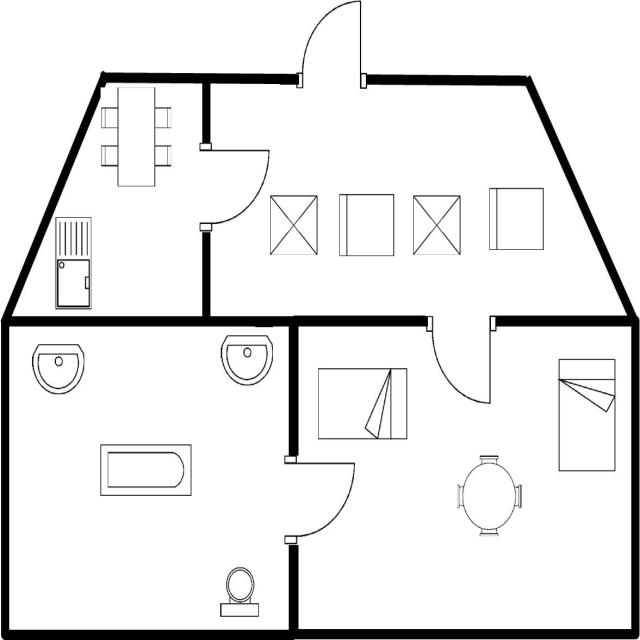bed: (312, 360, 412, 446), (553, 352, 620, 480)
coffee_table: (266, 190, 322, 259), (408, 190, 464, 258)
dining_table: (97, 83, 175, 193)
large_sink: (215, 561, 263, 622)
round_table: (451, 447, 526, 540)
sink: (52, 211, 94, 313)
small_sink: (215, 330, 278, 392), (28, 338, 87, 398)
small_sofa: (482, 181, 548, 255), (333, 189, 398, 262)
tub: (97, 439, 197, 501)
